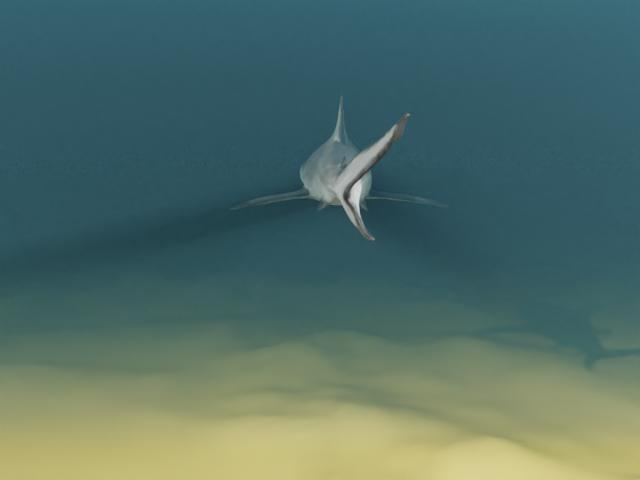Carribean Shark.001: (229, 95, 448, 241)
